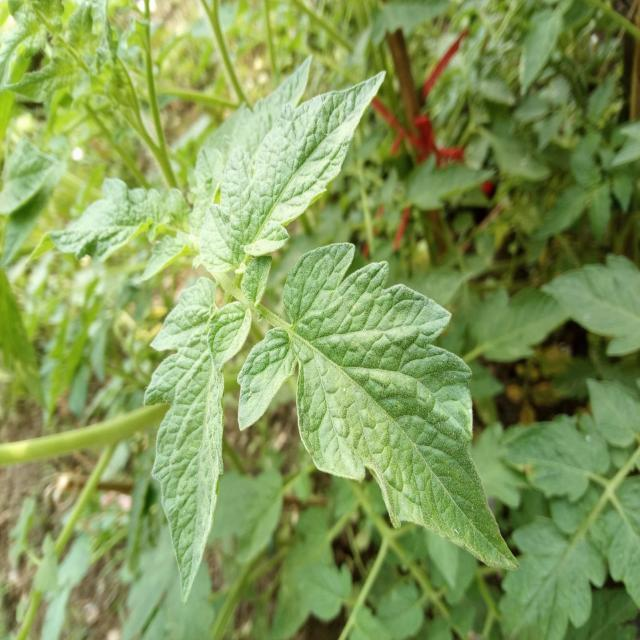Healthy: (244, 215, 537, 619), (166, 28, 401, 297), (145, 333, 223, 601), (541, 230, 640, 368), (150, 270, 231, 367), (196, 295, 258, 373)
